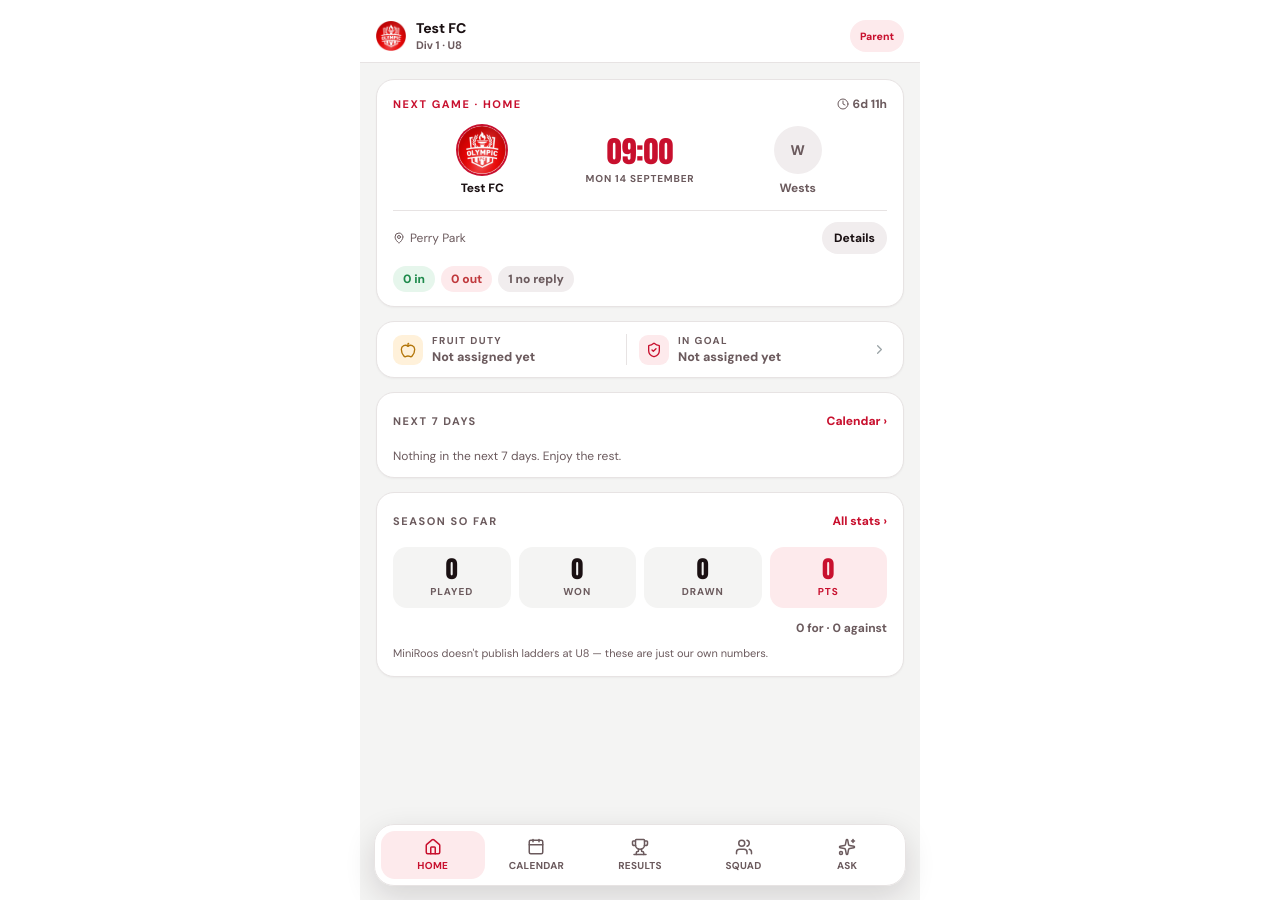
it: App — coach-mode PIN gate › does NOT enter coach mode when a PIN is set: Coach mode opens the PIN sheet and a wrong PIN is refused
Click the button with aria-label "Viewing as": (877, 36) [850,20,904,52]
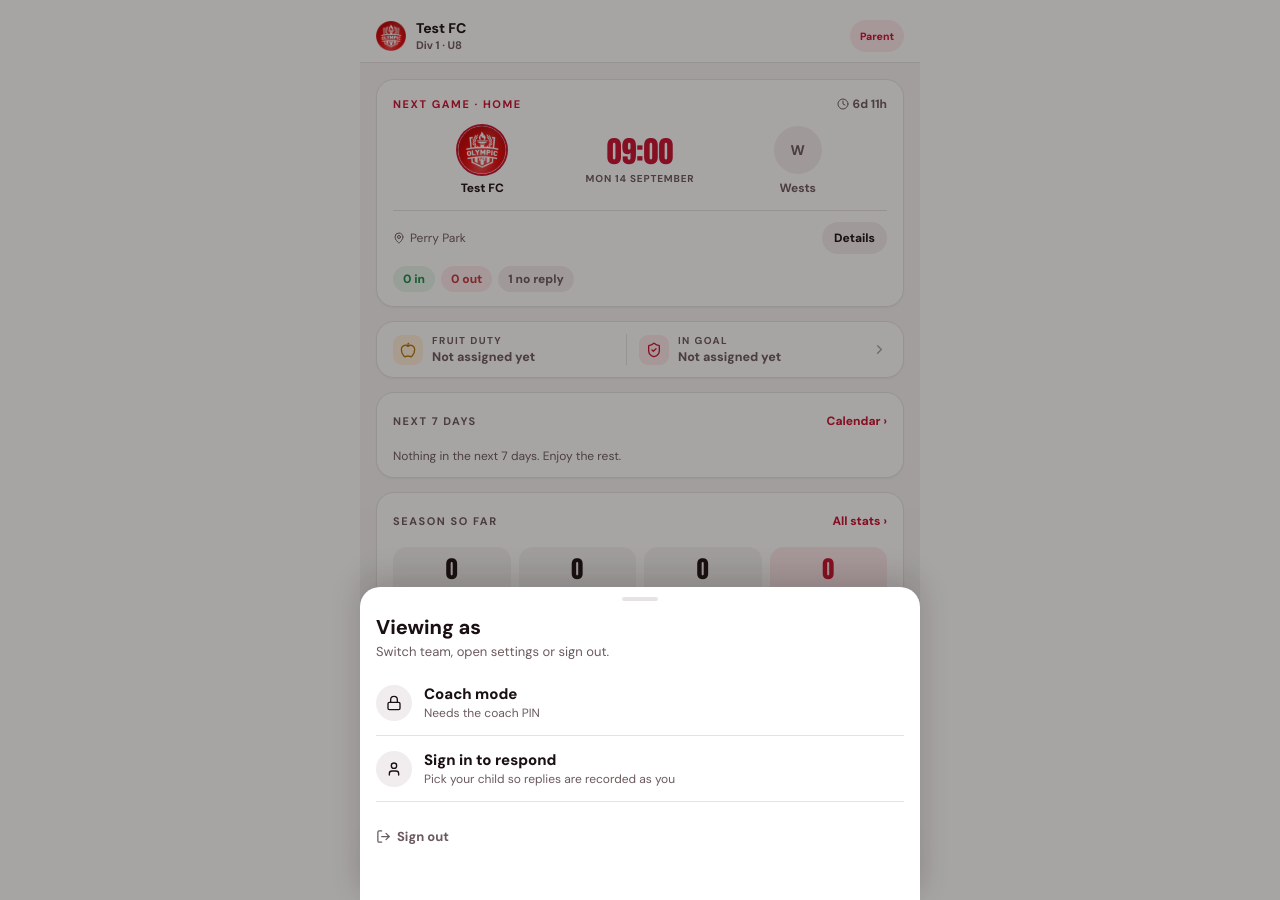
Click the text "Coach mode": (471, 694) [424,684,517,704]
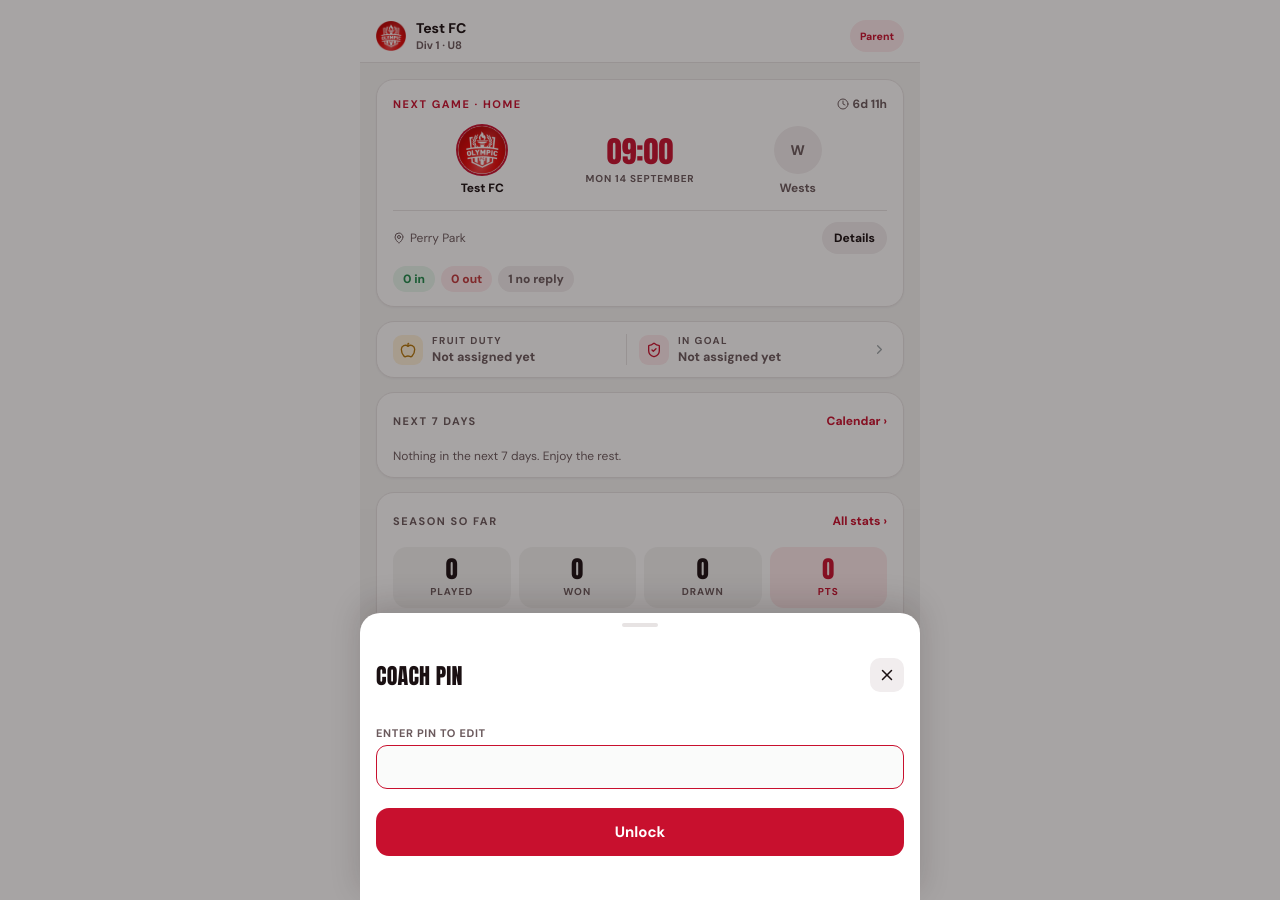
Check: the heading "Coach PIN" is shown, box [376,659,463,692]
In the field: (640, 767) [376,745,904,789], type "0000"
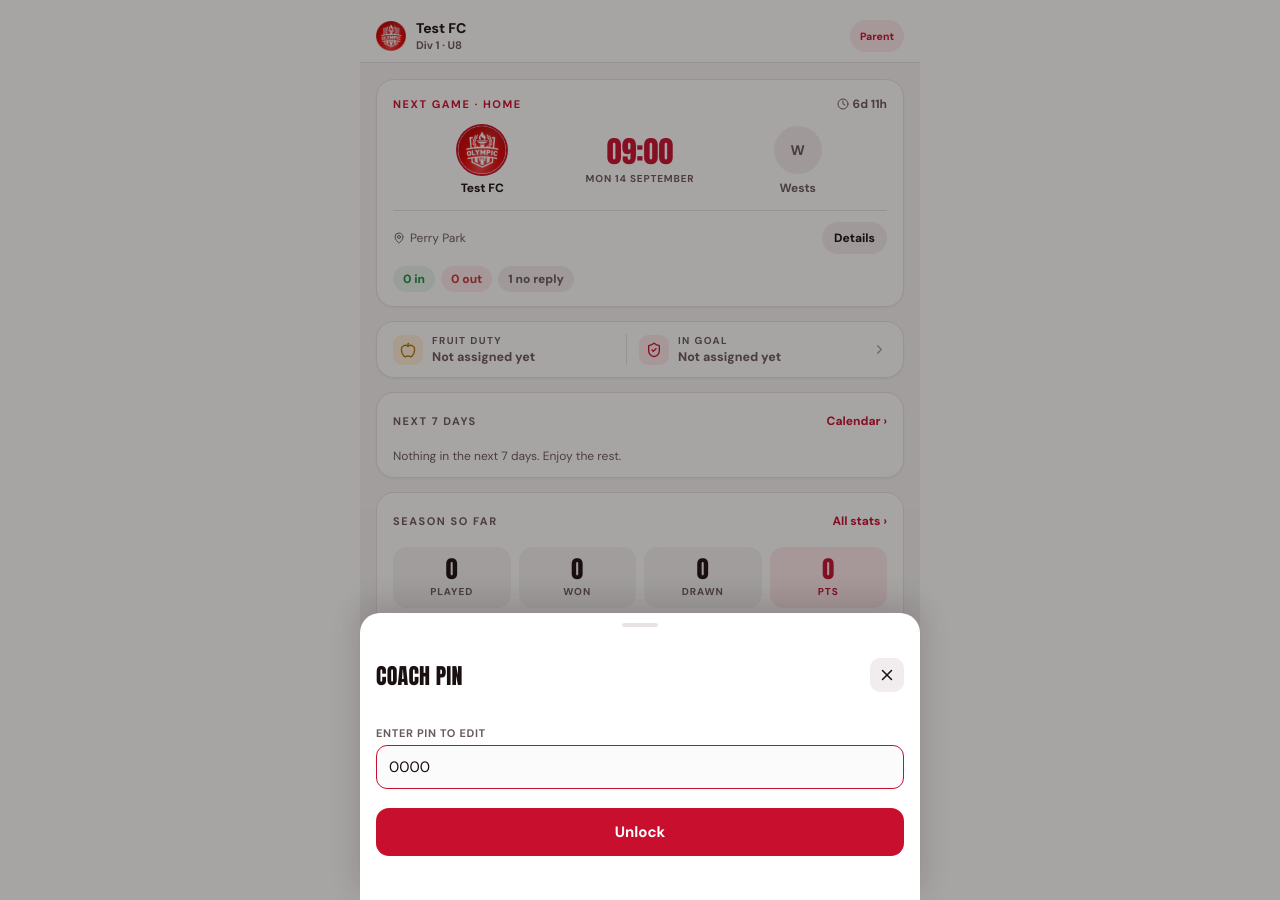
Click the button "Unlock": (640, 832) [376,808,904,856]
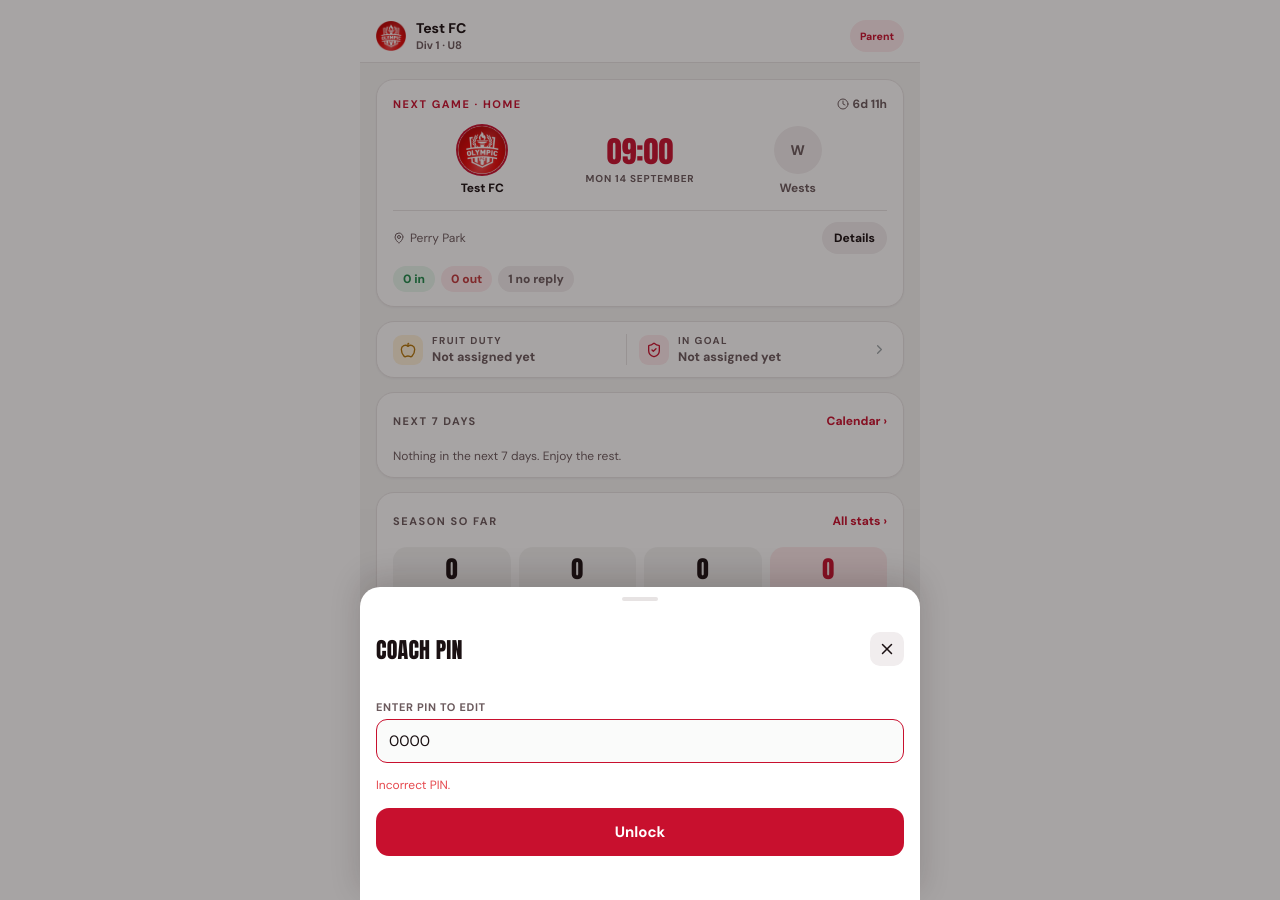
Check: the button with aria-label "Viewing as" reads "Parent", box [850,20,904,52]
Check: the text "Incorrect PIN." is shown, box [376,777,450,793]
